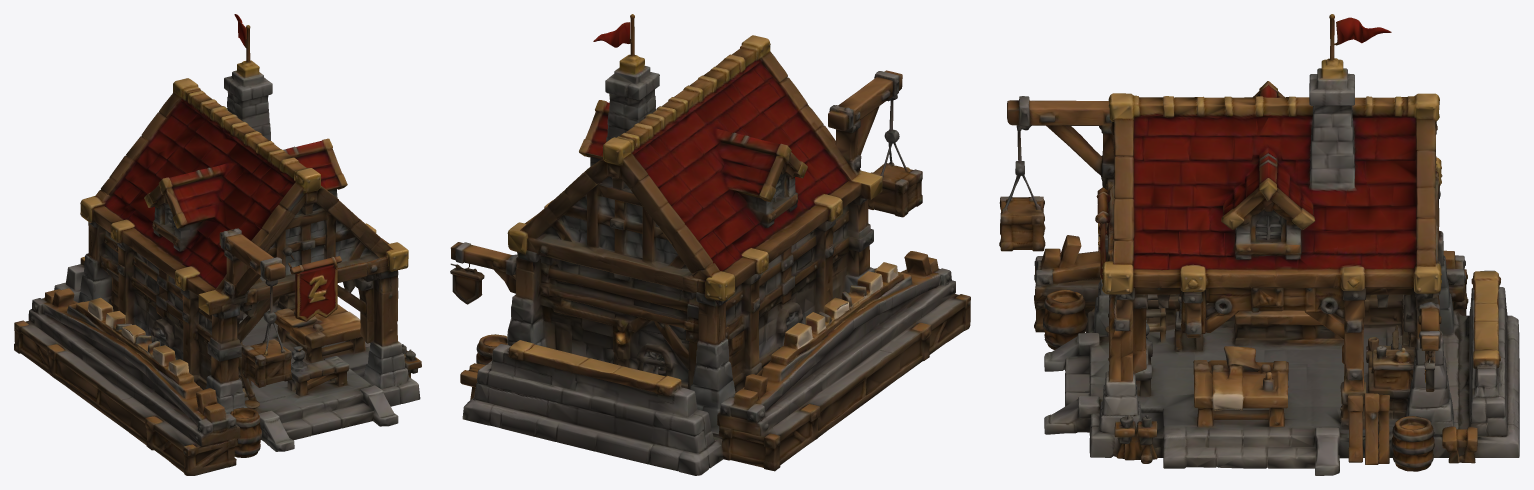
The model's file is smith-shop.glb.
3 renders of one model, left to right at view 1: azimuth 30°, elevation 25°; view 2: azimuth 150°, elevation 25°; view 3: azimuth 270°, elevation 25°, orthographic. The views are drawn at different scales.
Visible parts, largest first — view 1: tripo_node_15d8cc3f-ccf2-46b6-9737-1a47606a0bf8; view 2: tripo_node_15d8cc3f-ccf2-46b6-9737-1a47606a0bf8; view 3: tripo_node_15d8cc3f-ccf2-46b6-9737-1a47606a0bf8.
Part boxes in pixels (<box>): tripo_node_15d8cc3f-ccf2-46b6-9737-1a47606a0bf8: <box>14,14,421,475</box>; tripo_node_15d8cc3f-ccf2-46b6-9737-1a47606a0bf8: <box>450,14,970,475</box>; tripo_node_15d8cc3f-ccf2-46b6-9737-1a47606a0bf8: <box>999,14,1519,475</box>.
Bounding box in the file's own units: 0.833 × 0.8469 × 0.9995.
Materials: 1 (1 with a texture image).
